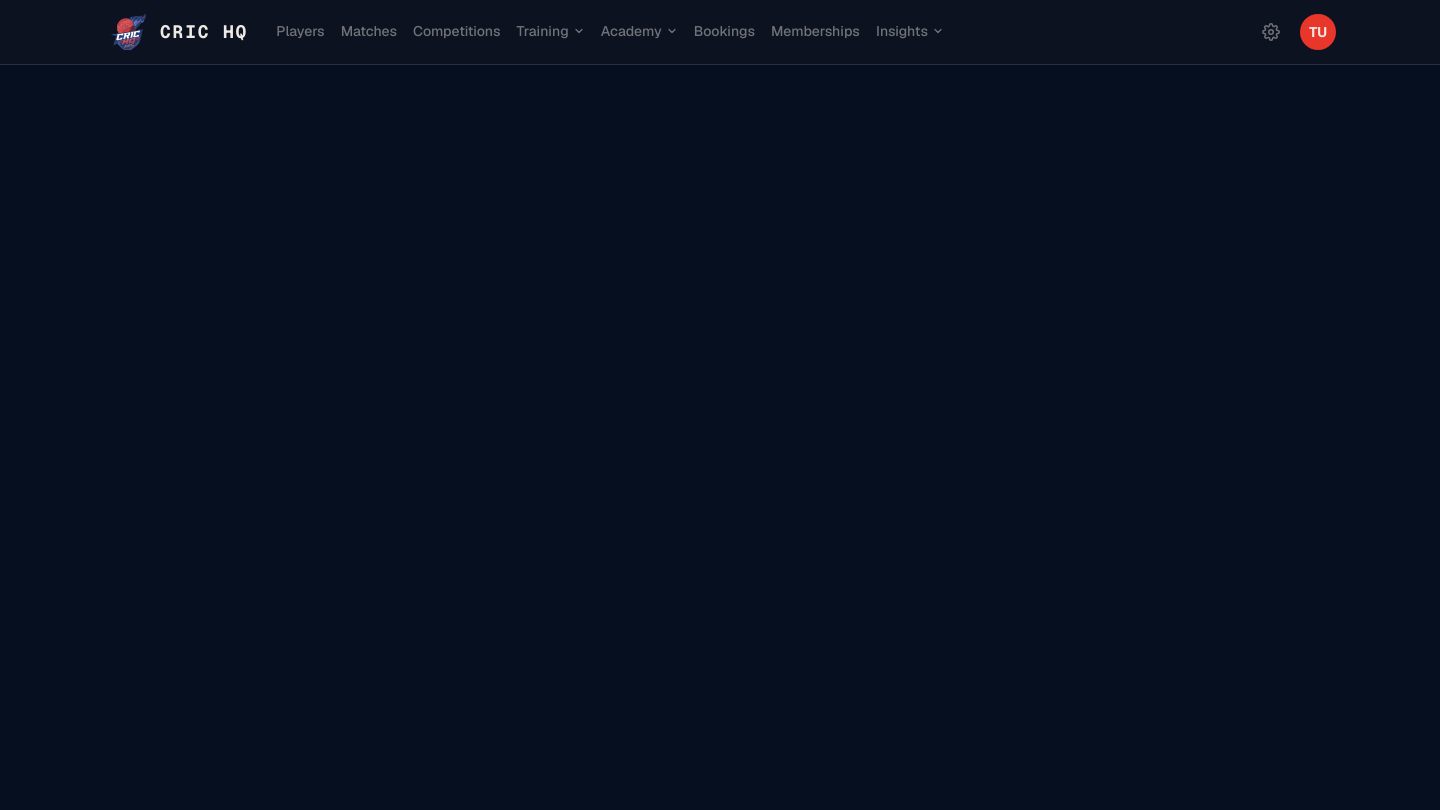
Test: NavBar › Escape closes the Admin Center dropdown, and a click inside it does not close it before navigation
The width and height of the screenshot is (1440, 810).
Click the button named "Admin Center": (1271, 32) [1254,15,1288,49]
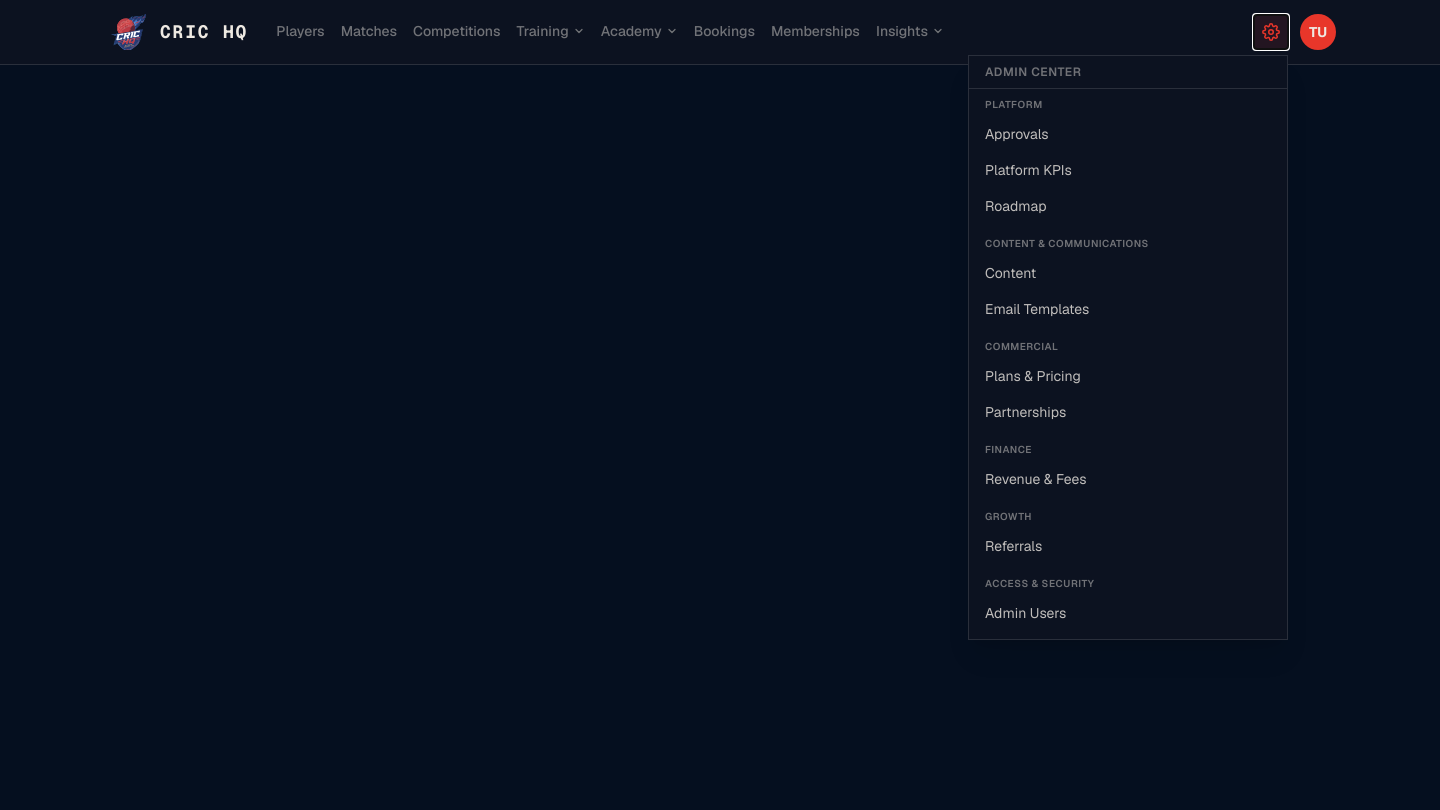
Expected: the menu item "Content" is shown
Click the menu item "Content": (1011, 273) [985,264,1036,282]
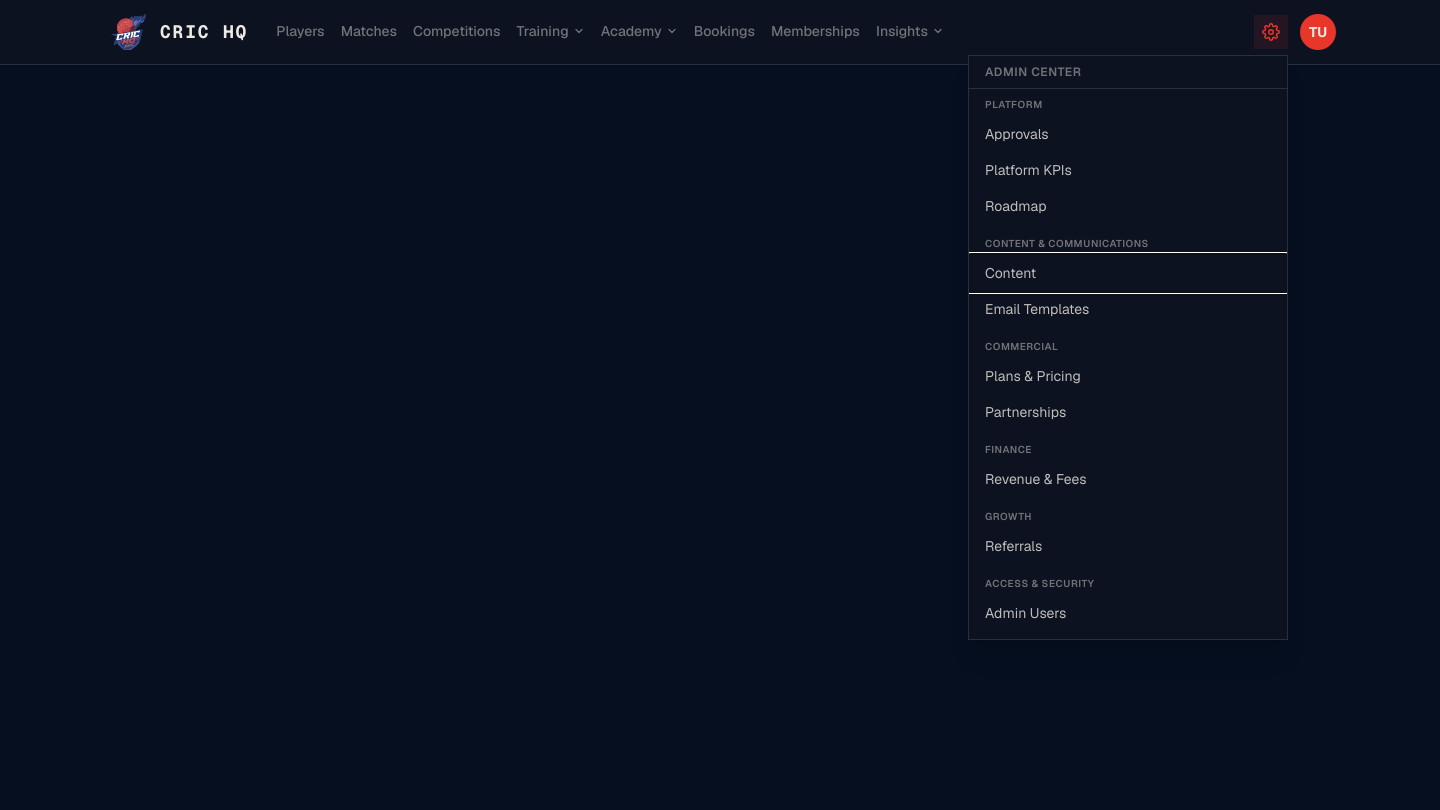
Expected: the menu item "Content" is shown, [985,264,1036,282]
Press Escape
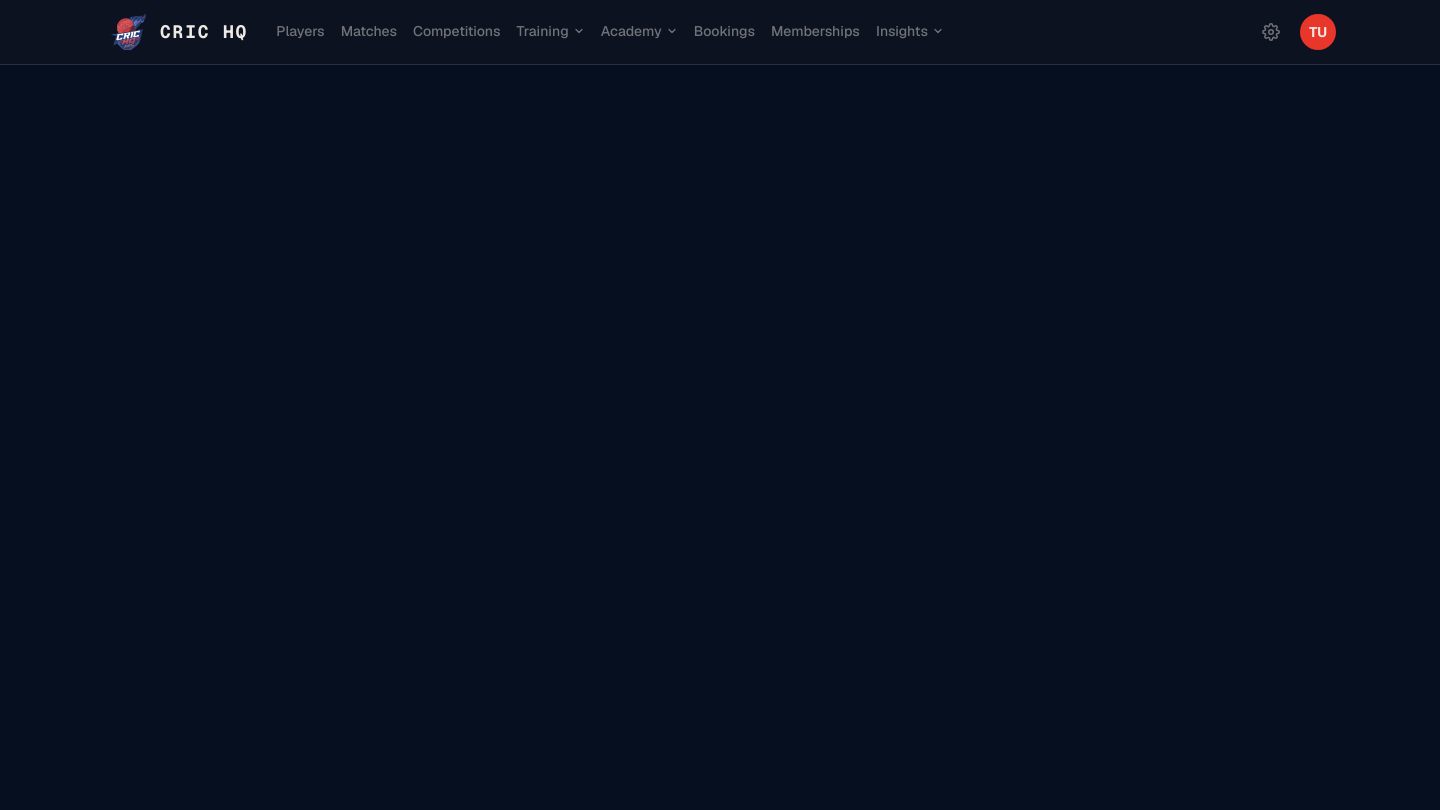
Expected: the text "Content" is gone
